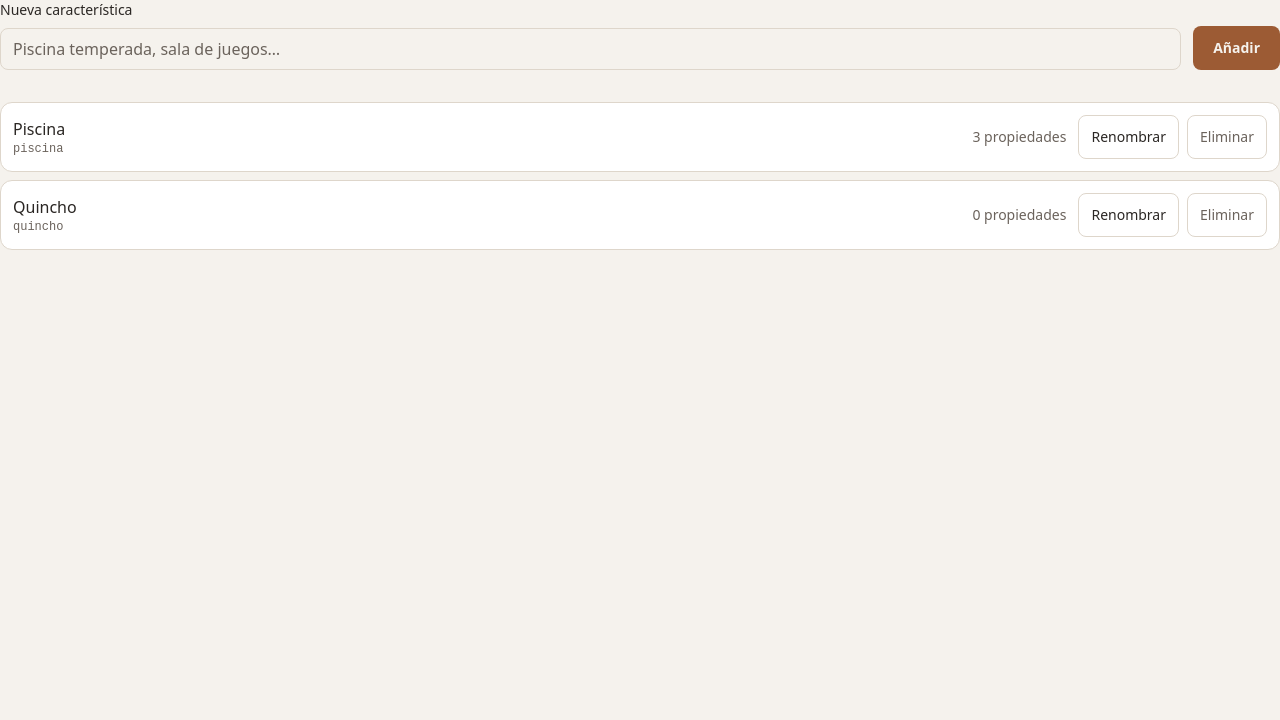
FeatureManager › dice a cuántas propiedades afecta eliminarla
This screenshot has width=1280, height=720.
Click the button named "Eliminar Piscina": (1227, 137) [1187,115,1267,159]
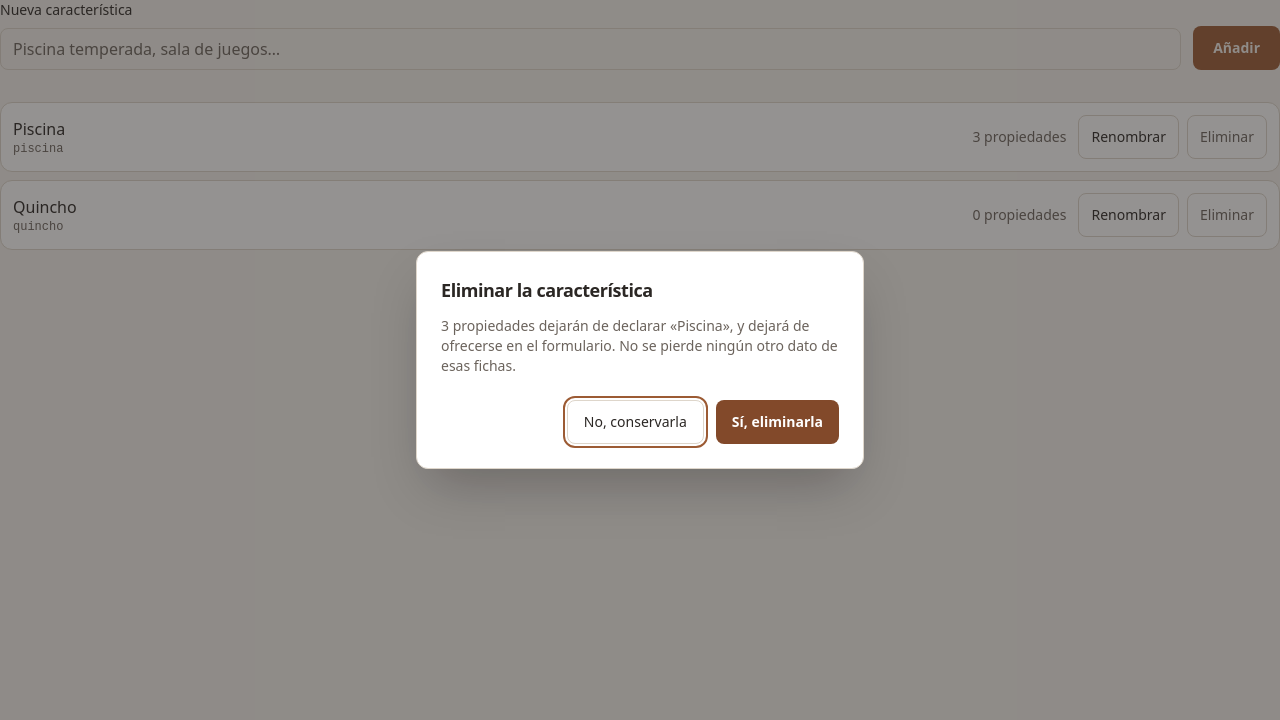
Result: the dialog shows "3 propiedades dejarán de declarar «Piscina»" at [441,316,838,375]
